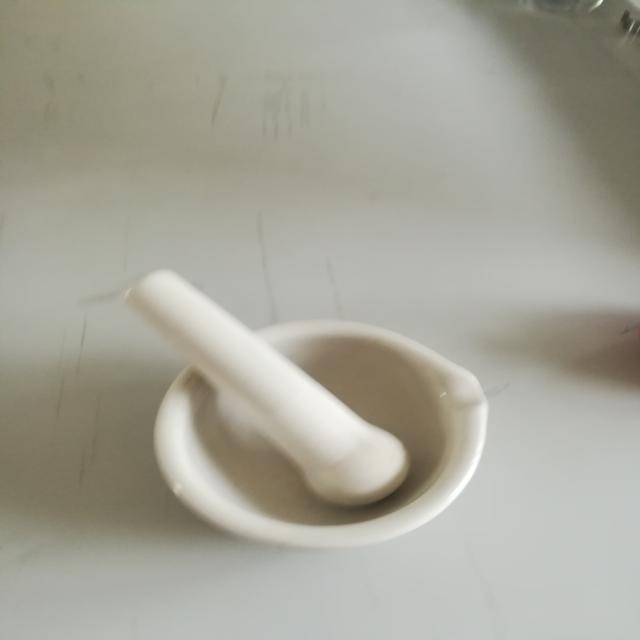Porcelain_Mortar Pestle: (95, 220, 533, 582)
